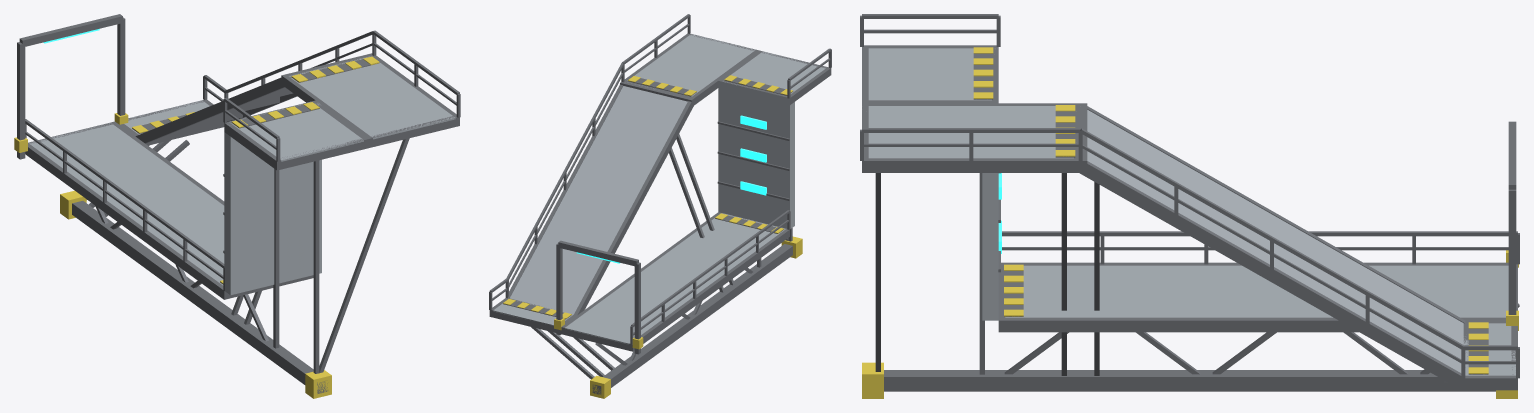
Rendered from scaffold_gloo_rise.glb.
3 views of the same model, side by side, from view 1: azimuth 30°, elevation 25°; view 2: azimuth 150°, elevation 25°; view 3: azimuth 270°, elevation 25° (orthographic). The views are drawn at different scales.
Visible parts, largest first — view 1: GlooWall, Deck_a, Deck_ramp_top, Spine, Deck_b, Frame_a_-1, Frame_ramp_-1, Hanger_ramp_top_1, Hanger_b_1, Rail_a_-1, Hanger_b_0, PortalLintel (+15 smaller); view 2: Deck_ramp, GlooWall, Deck_a, Deck_ramp_top, Spine, Deck_b, Frame_ramp_-1, Frame_a_-1, Frame_ramp_1, Rail_ramp_1, Rail_a_-1, PortalLintel (+17 smaller); view 3: Deck_a, Deck_ramp, Spine, Deck_ramp_top, Frame_ramp_1, Frame_a_1, Deck_b, Frame_ramp_top_1, GlooWall, Rail_ramp_1, Rail_a_-1, MidRail_ramp_1 (+17 smaller).
Boxes of the visible parts, bbox=[...] form: GlooWall: bbox=[224, 103, 321, 295]; Deck_a: bbox=[29, 123, 224, 285]; Deck_ramp_top: bbox=[289, 56, 455, 139]; Spine: bbox=[72, 201, 328, 393]; Deck_b: bbox=[230, 101, 363, 161]; Frame_a_-1: bbox=[25, 144, 228, 299]; Frame_ramp_-1: bbox=[135, 77, 284, 143]; Hanger_ramp_top_1: bbox=[319, 138, 409, 373]; Hanger_b_1: bbox=[313, 160, 319, 373]; Rail_a_-1: bbox=[25, 119, 224, 267]; Hanger_b_0: bbox=[273, 169, 279, 348]; PortalLintel: bbox=[19, 14, 122, 46]; Deck_ramp: bbox=[510, 86, 687, 313]; GlooWall: bbox=[718, 81, 794, 228]; Deck_a: bbox=[565, 213, 785, 344]; Deck_ramp_top: bbox=[627, 34, 755, 96]; Spine: bbox=[592, 244, 792, 394]; Deck_b: bbox=[723, 51, 825, 93]; Frame_ramp_-1: bbox=[574, 101, 693, 315]; Frame_a_-1: bbox=[629, 229, 787, 351]; Frame_ramp_1: bbox=[508, 84, 623, 298]; Rail_ramp_1: bbox=[506, 63, 623, 280]; Rail_a_-1: bbox=[631, 210, 789, 327]; PortalLintel: bbox=[558, 240, 638, 266]; Deck_a: bbox=[1005, 265, 1508, 317]; Deck_ramp: bbox=[1087, 110, 1463, 372]; Spine: bbox=[884, 370, 1495, 391]; Deck_ramp_top: bbox=[868, 106, 1073, 158]; Frame_ramp_1: bbox=[1077, 161, 1461, 387]; Frame_a_1: bbox=[998, 317, 1505, 332]; Deck_b: bbox=[868, 48, 995, 100]; Frame_ramp_top_1: bbox=[862, 158, 1080, 172]; GlooWall: bbox=[982, 173, 998, 320]; Rail_ramp_1: bbox=[1079, 128, 1463, 348]; Rail_a_-1: bbox=[1002, 231, 1517, 236]; MidRail_ramp_1: bbox=[1082, 145, 1461, 362].
Bounding box in the file's own units: 5.24 × 7.07 × 12.07.
